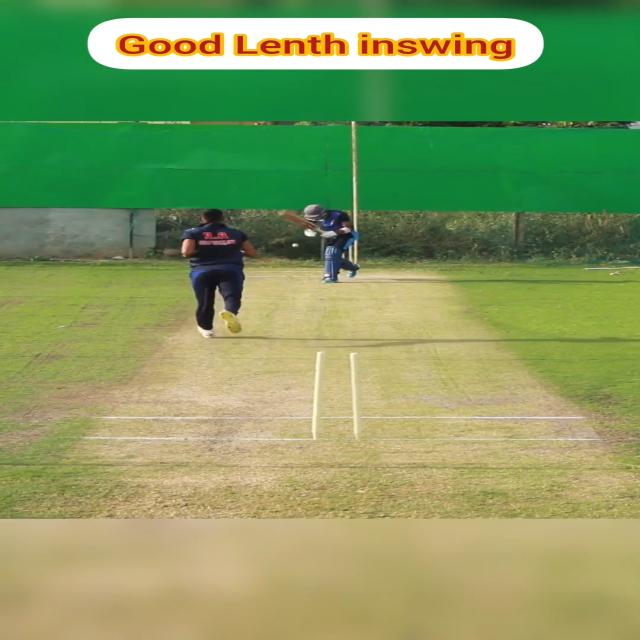ball: (291, 243, 300, 248)
stump: (306, 350, 366, 439)
